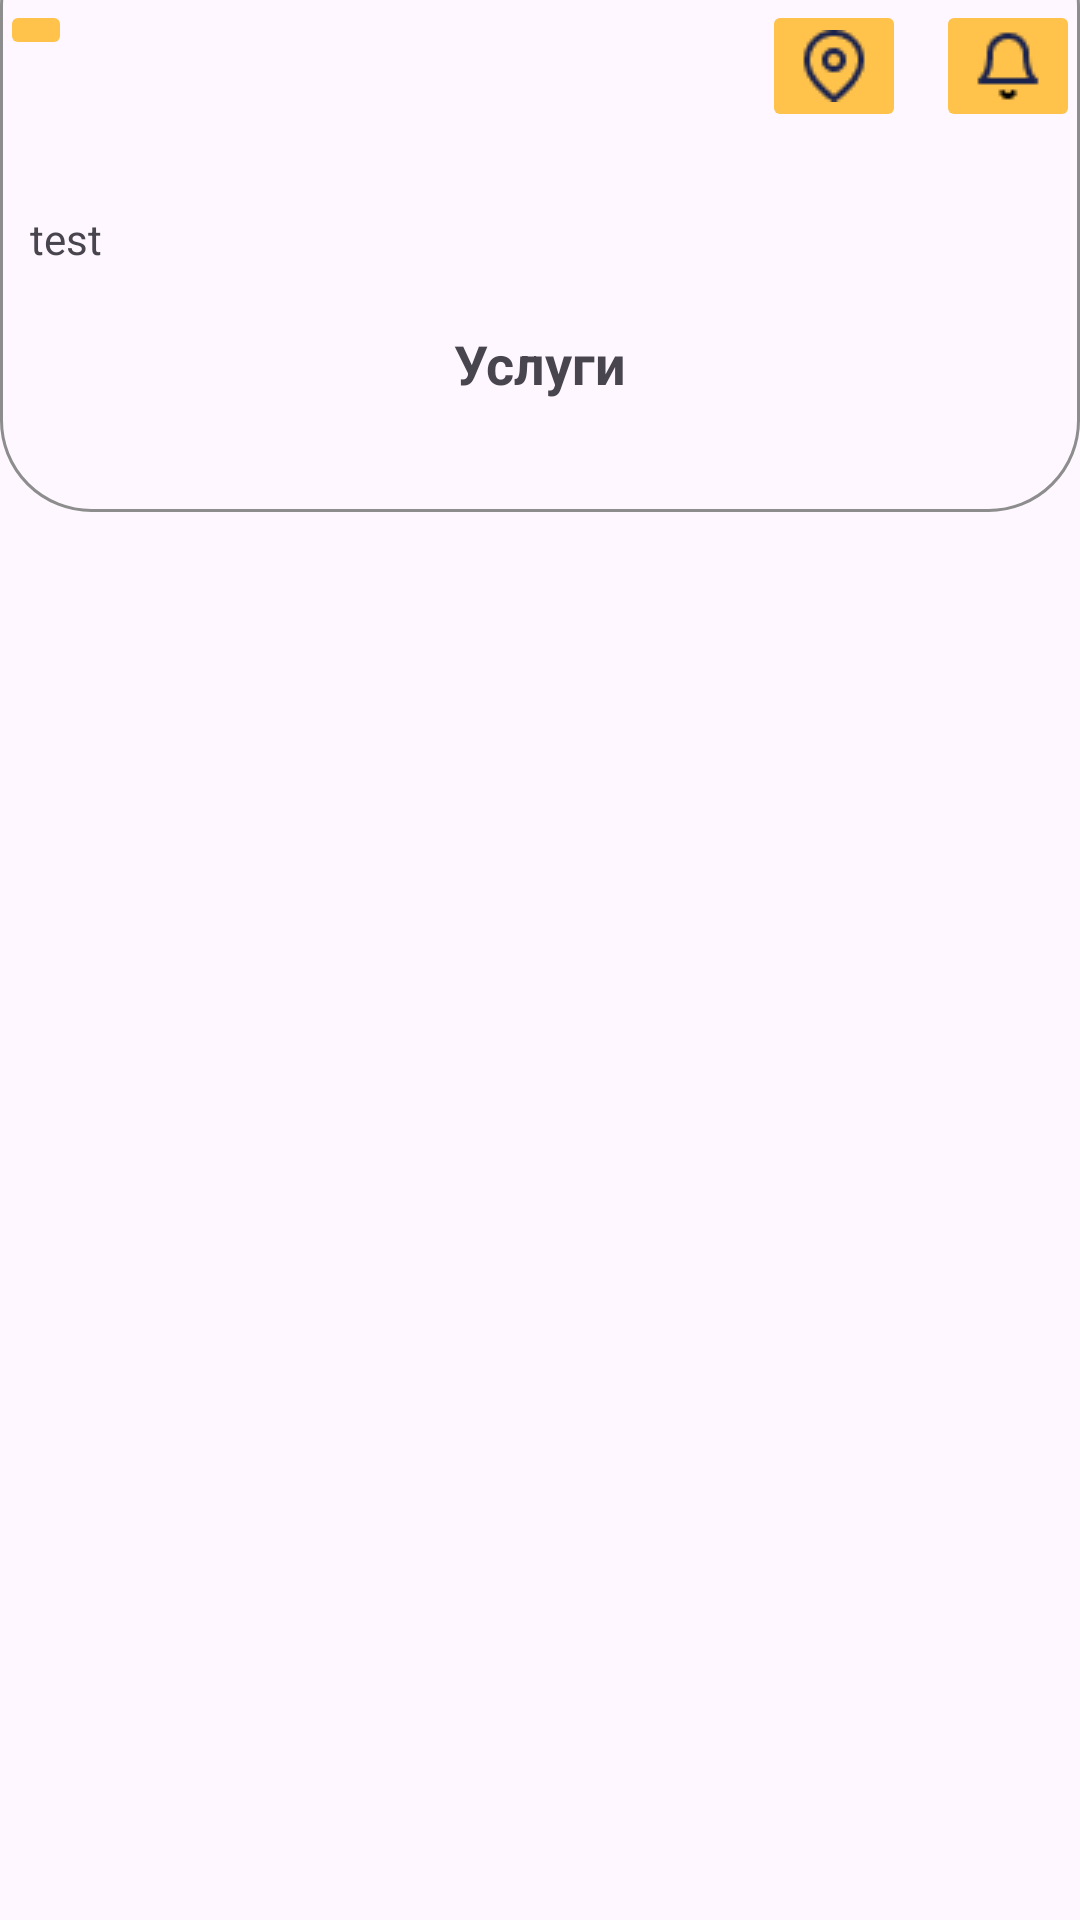

Icon click points for this 1080*1920 phone screenshot, format point (x, y):
bell: point (1008, 66)
map: point (834, 66)
